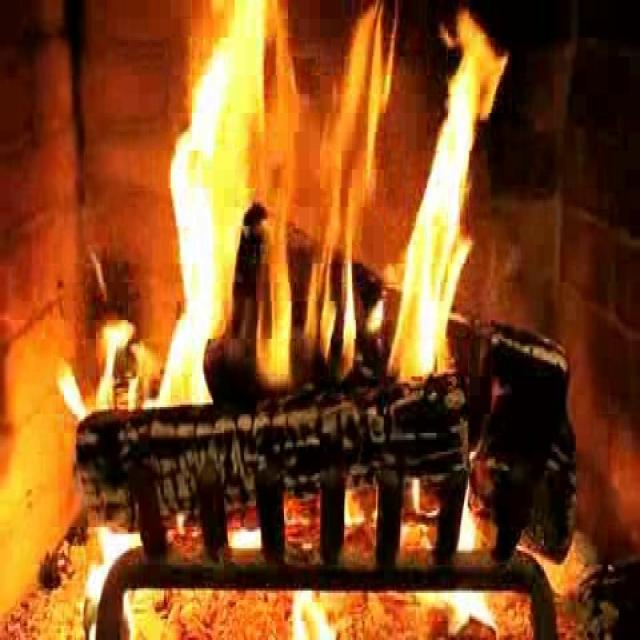Fire: (155, 12, 498, 402), (58, 318, 136, 418), (90, 524, 153, 640), (450, 497, 497, 628), (284, 582, 338, 640)
